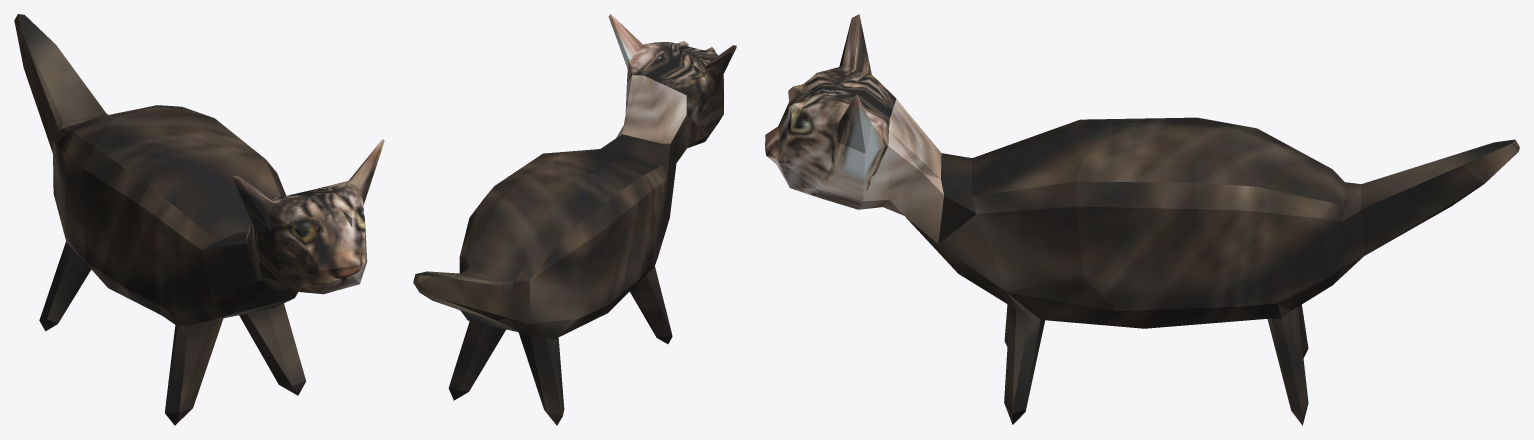
The model's file is cat.fbx.
The picture shows the model from 3 angles, left to right: view 1: azimuth 30°, elevation 25°; view 2: azimuth 150°, elevation 25°; view 3: azimuth 270°, elevation 25°; orthographic projection. The views are drawn at different scales.
Visible parts, largest first — view 1: Cube.008; view 2: Cube.008; view 3: Cube.008.
Boxes of the visible parts, left/top/right/bottom form: Cube.008: left=14, top=14, right=384, bottom=425; Cube.008: left=413, top=14, right=736, bottom=425; Cube.008: left=765, top=14, right=1519, bottom=425.
Bounding box in the file's own units: 23.68 × 45.44 × 91.3.
